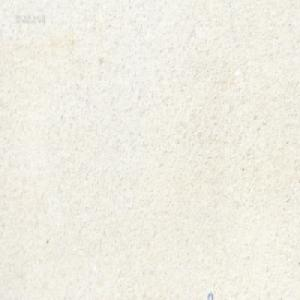Washer: (207, 291, 213, 299)
